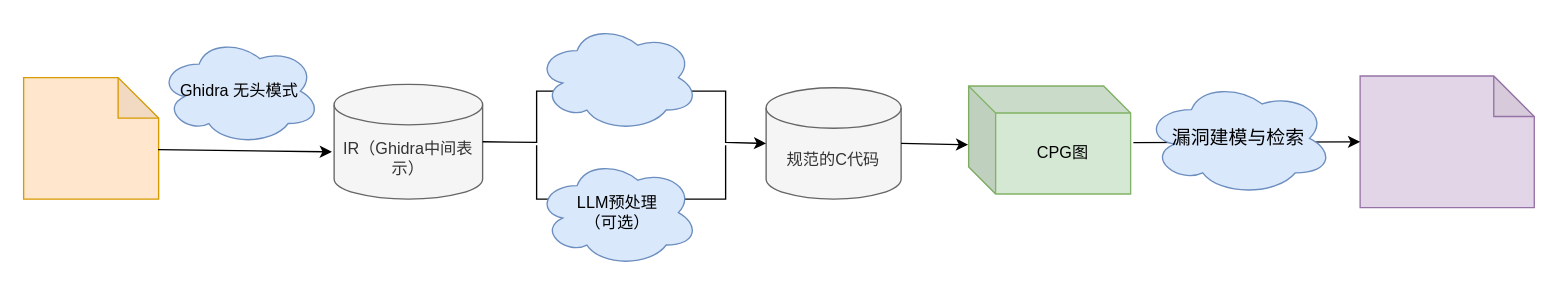
Image size: 1558x290. Some labels were removed from this diagram. The shapes that lost their labels are listed below. From the top down, each one's centre as x and y in pixels, then its label:
(x=617, y=77): 脚本预处理
(x=90, y=137): 二进制程序
(x=1446, y=141): 漏洞报告 与 危险数据流报告
